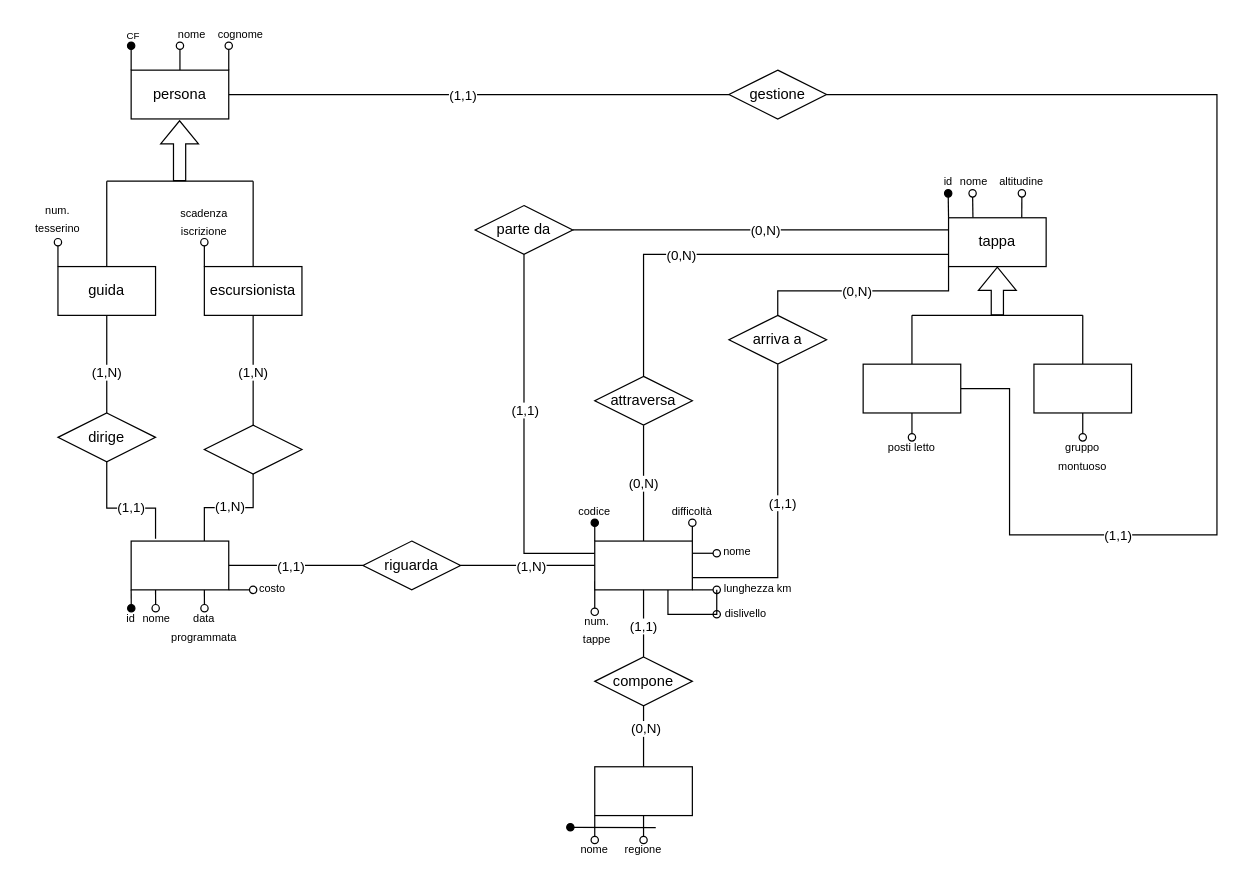
The diagram is 1240 pixels wide and 887 high, and some of its shapes have lost their labels. The shapes that lost their labels are listed below. From the top down, each one's centre as x and y in pixels, then its label:
point 911,388: rifugio
point 1082,388: cima
point 252,449: partecipa
point 179,565: escursione
point 643,565: sentiero
point 643,791: parco
